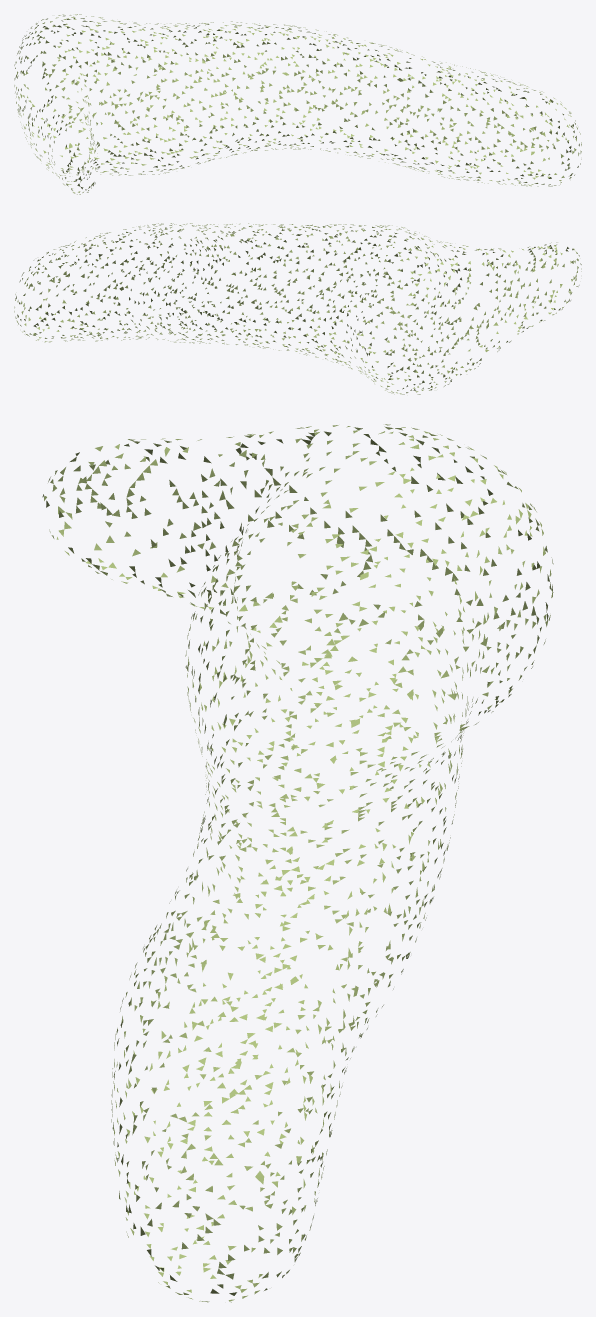
The model's file is morph_011.glb.
3 renders of one model, top to bottom at view 1: azimuth 30°, elevation 25°; view 2: azimuth 150°, elevation 25°; view 3: azimuth 270°, elevation 25°, orthographic. The views are drawn at different scales.
Size of the model in its own units: 104 by 42.84 by 44.14.
